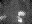person: (1, 15, 7, 21), (18, 10, 25, 15), (19, 18, 23, 23)
